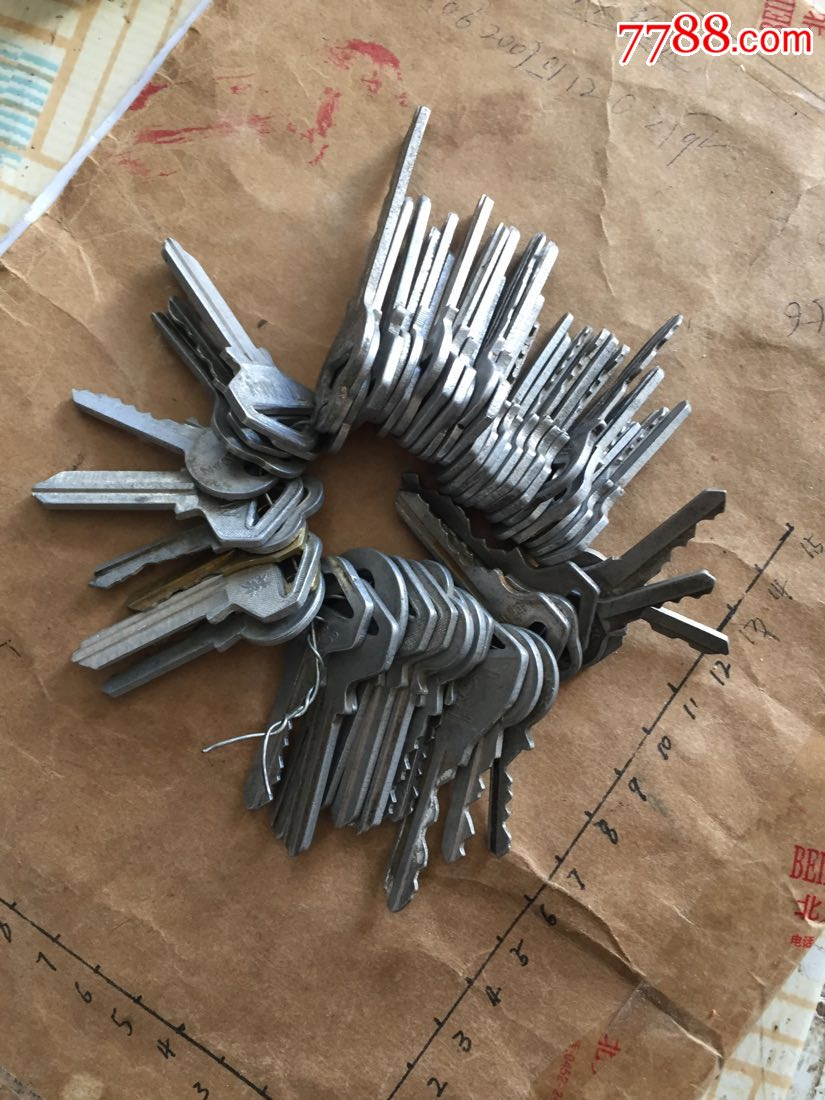key: (158, 204, 325, 449)
